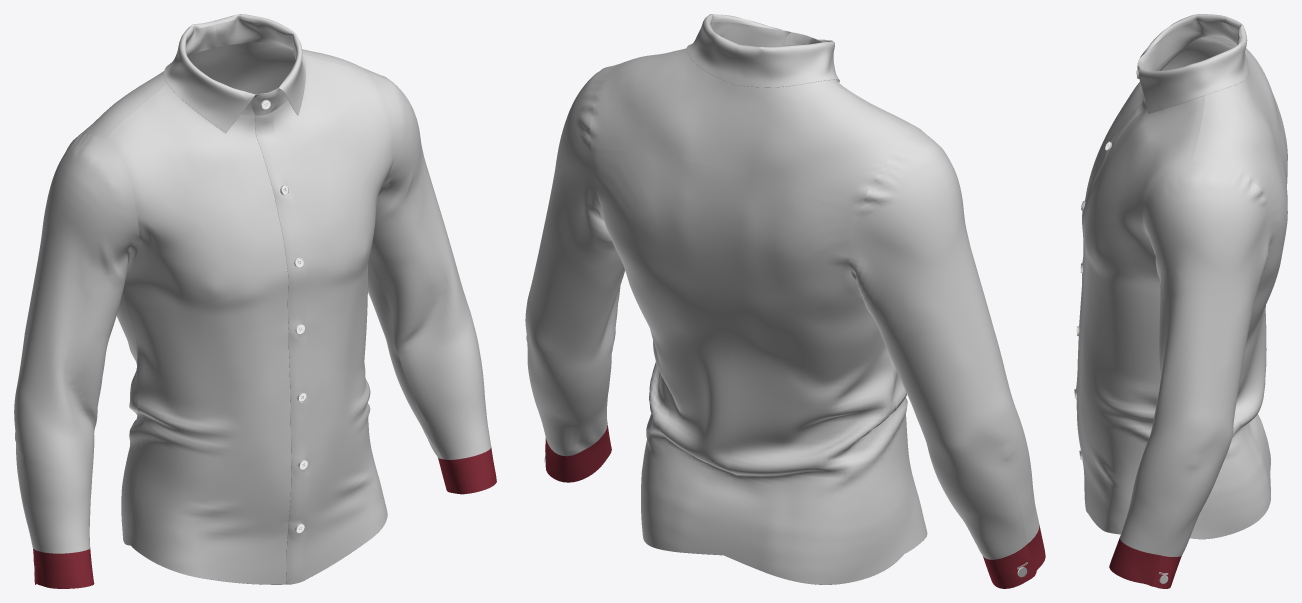
The model's file is Shirt_012.fbx.
3 views of the same model, side by side, from view 1: azimuth 30°, elevation 25°; view 2: azimuth 150°, elevation 25°; view 3: azimuth 270°, elevation 25° (orthographic). The views are drawn at different scales.
Visible parts, largest first — view 1: Pattern_68075297, Pattern_68075298, Pattern_1110631, Pattern_1110630, Pattern_68094140, Pattern_1788499, Pattern_68075299, Pattern_1788496, Pattern_4956462, Pattern_4956461, Pattern_1788497; view 2: Pattern_68075299, Pattern_1110631, Pattern_68094140, Pattern_1110630, Pattern_1788499, Pattern_68075297, Pattern_4959411, Pattern_4959412, Pattern_1788496; view 3: Pattern_1110630, Pattern_68075298, Pattern_68075299, Pattern_68094140, Pattern_1788499, Pattern_1788497, Pattern_4956461, Pattern_68075297, Pattern_1110631, Pattern_4959411.
Part boxes in pixels (bbox=[...]): Pattern_68075297: bbox=[106, 84, 291, 584]; Pattern_68075298: bbox=[255, 54, 394, 584]; Pattern_1110631: bbox=[14, 133, 139, 553]; Pattern_1110630: bbox=[367, 69, 490, 459]; Pattern_68094140: bbox=[79, 42, 372, 139]; Pattern_1788499: bbox=[164, 14, 305, 133]; Pattern_68075299: bbox=[116, 291, 144, 545]; Pattern_1788496: bbox=[213, 18, 296, 115]; Pattern_4956462: bbox=[34, 548, 94, 588]; Pattern_4956461: bbox=[443, 446, 496, 494]; Pattern_1788497: bbox=[186, 24, 268, 115]; Pattern_68075299: bbox=[591, 149, 904, 584]; Pattern_1110631: bbox=[848, 129, 1039, 559]; Pattern_68094140: bbox=[589, 48, 910, 215]; Pattern_1110630: bbox=[525, 64, 624, 456]; Pattern_1788499: bbox=[686, 14, 839, 87]; Pattern_68075297: bbox=[830, 79, 927, 553]; Pattern_4959411: bbox=[545, 435, 604, 482]; Pattern_4959412: bbox=[983, 544, 1036, 588]; Pattern_1788496: bbox=[710, 21, 802, 46]; Pattern_1110630: bbox=[1120, 161, 1271, 556]; Pattern_68075298: bbox=[1076, 95, 1205, 534]; Pattern_68075299: bbox=[1190, 102, 1287, 539]; Pattern_68094140: bbox=[1192, 35, 1277, 203]; Pattern_1788499: bbox=[1138, 14, 1248, 113]; Pattern_1788497: bbox=[1137, 20, 1239, 71]; Pattern_4956461: bbox=[1109, 537, 1160, 587]; Pattern_68075297: bbox=[1085, 36, 1205, 196]; Pattern_1110631: bbox=[1161, 37, 1234, 70]; Pattern_4959411: bbox=[1153, 555, 1181, 588].
Bounding box in the file's own units: 62.64 × 66.62 × 27.16.
